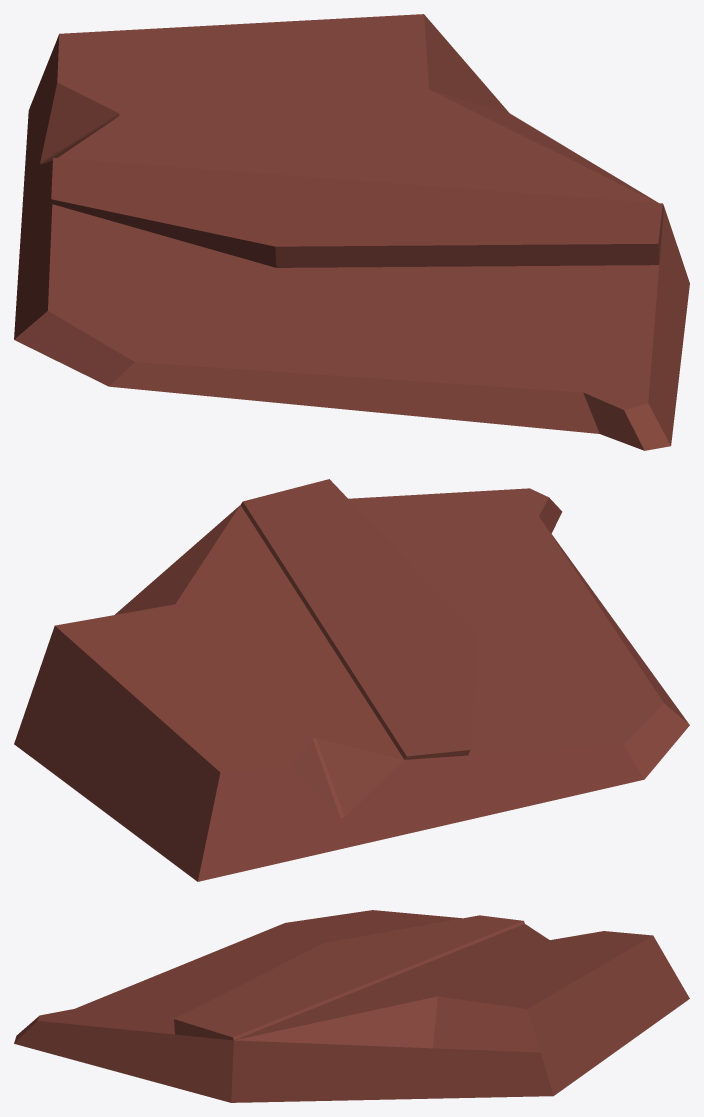
The model's file is Stone3.fbx.
3 views of the same model, one above another, from view 1: azimuth 30°, elevation 25°; view 2: azimuth 150°, elevation 25°; view 3: azimuth 270°, elevation 25° (orthographic). The views are drawn at different scales.
Parts seen in each view (by area): view 1: Circle.008; view 2: Circle.008; view 3: Circle.008.
Boxes of the visible parts, x1,y1,x2,y2 form: Circle.008: (14,14,689,450); Circle.008: (14,479,689,881); Circle.008: (14,910,689,1102).
Bounding box in the file's own units: 115 × 23.08 × 178.
